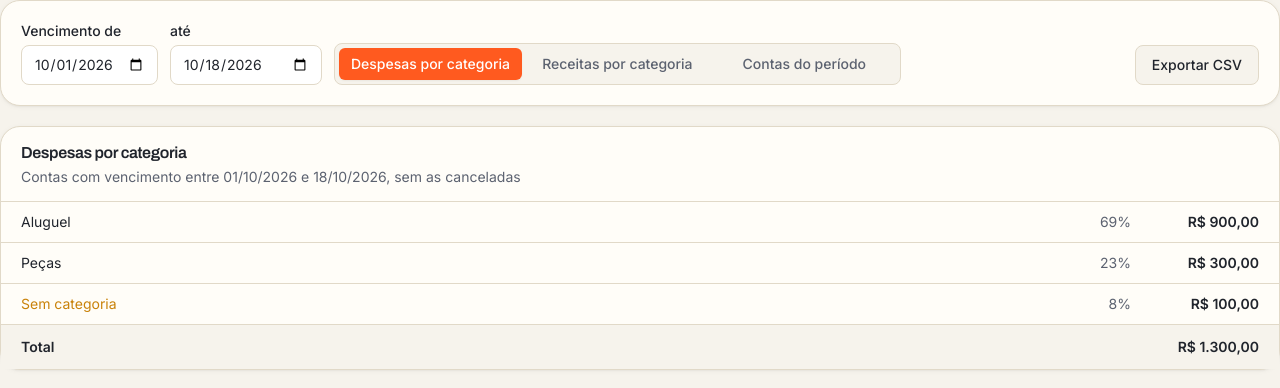
Scenario: FinanceiroRelatorios › switches to income by category
The image size is (1280, 388).
Step 1. Click the radio button labelled "Receitas por categoria" → (617, 64), box [526,48,709,80]
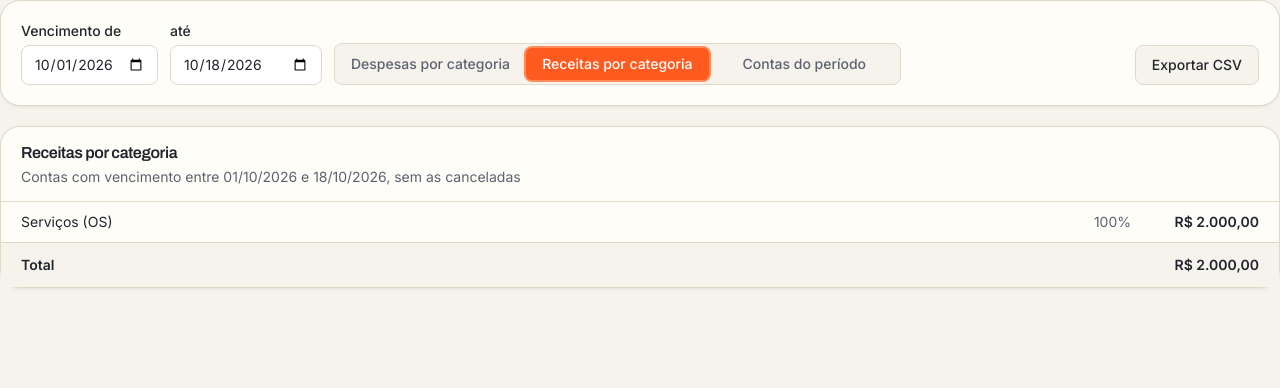
Expected: the text "Serviços (OS)" is shown, [21,213,112,230]
Expected: the text "Peças" is gone
